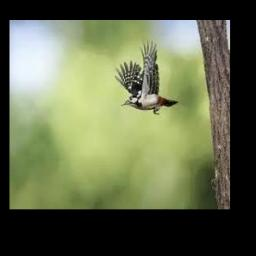Woodpecker: (114, 38, 178, 115)
